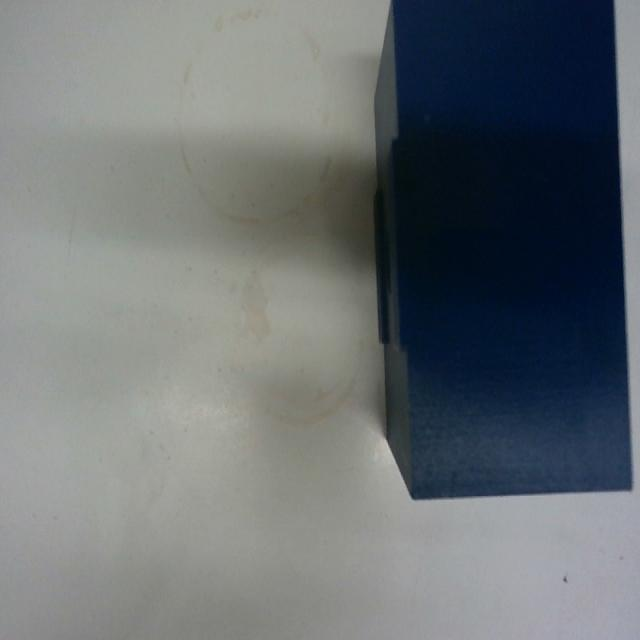Blue Cuboid: (370, 0, 634, 501)
